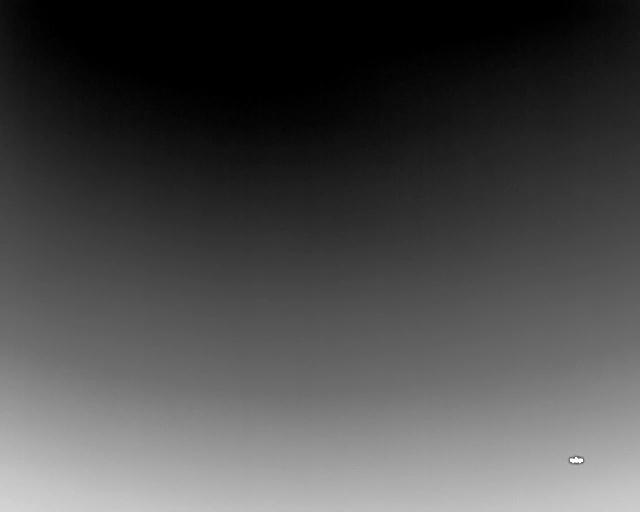fpv-drone: (568, 455, 584, 464)
